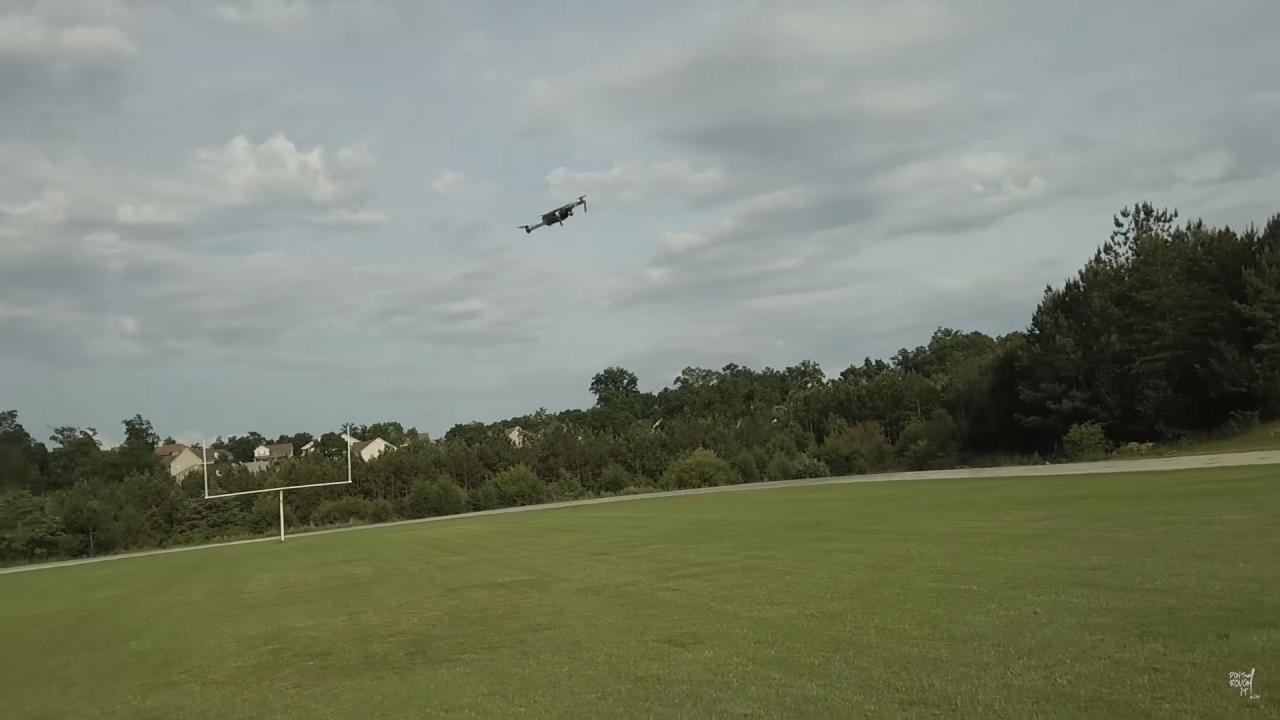Drone: (510, 186, 598, 249)
